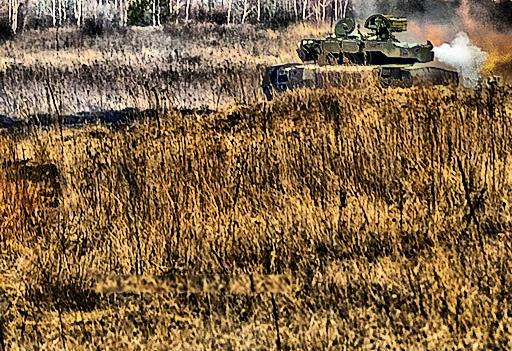tanks: (263, 16, 461, 98)
